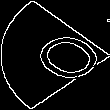O_SE: (8, 21, 102, 89)
